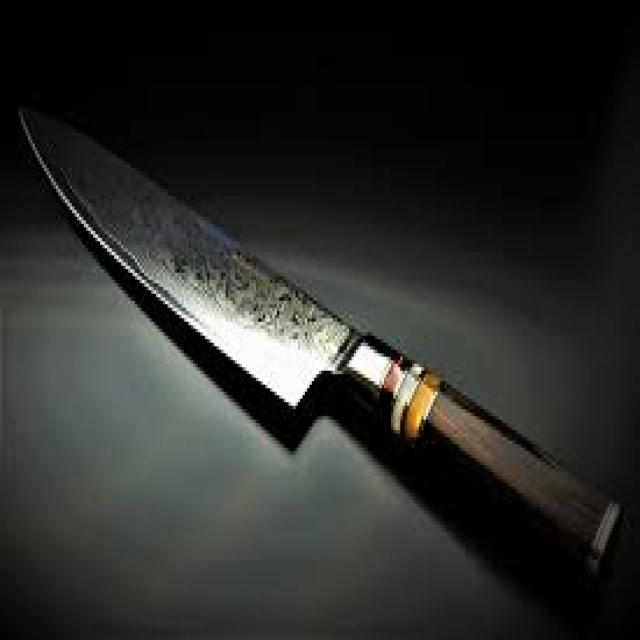knives: (16, 87, 628, 598)
